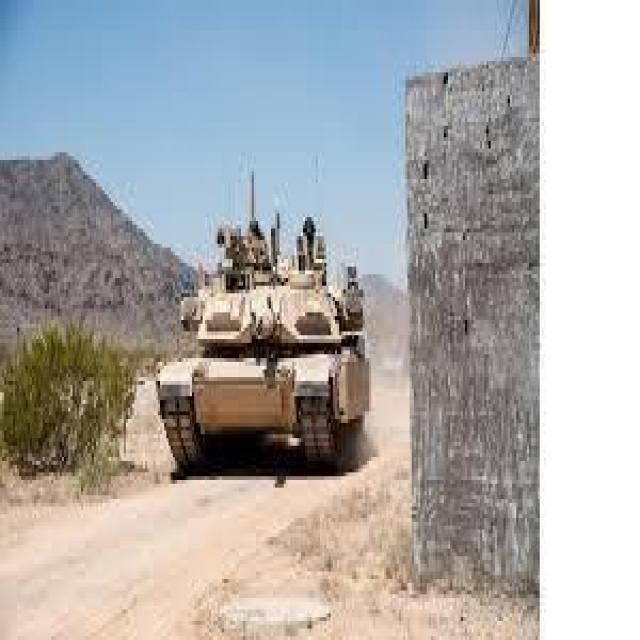MIL_MBT: (154, 234, 384, 501)
